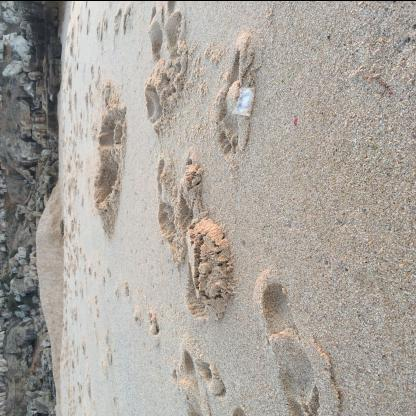plastik: (232, 87, 258, 117)
